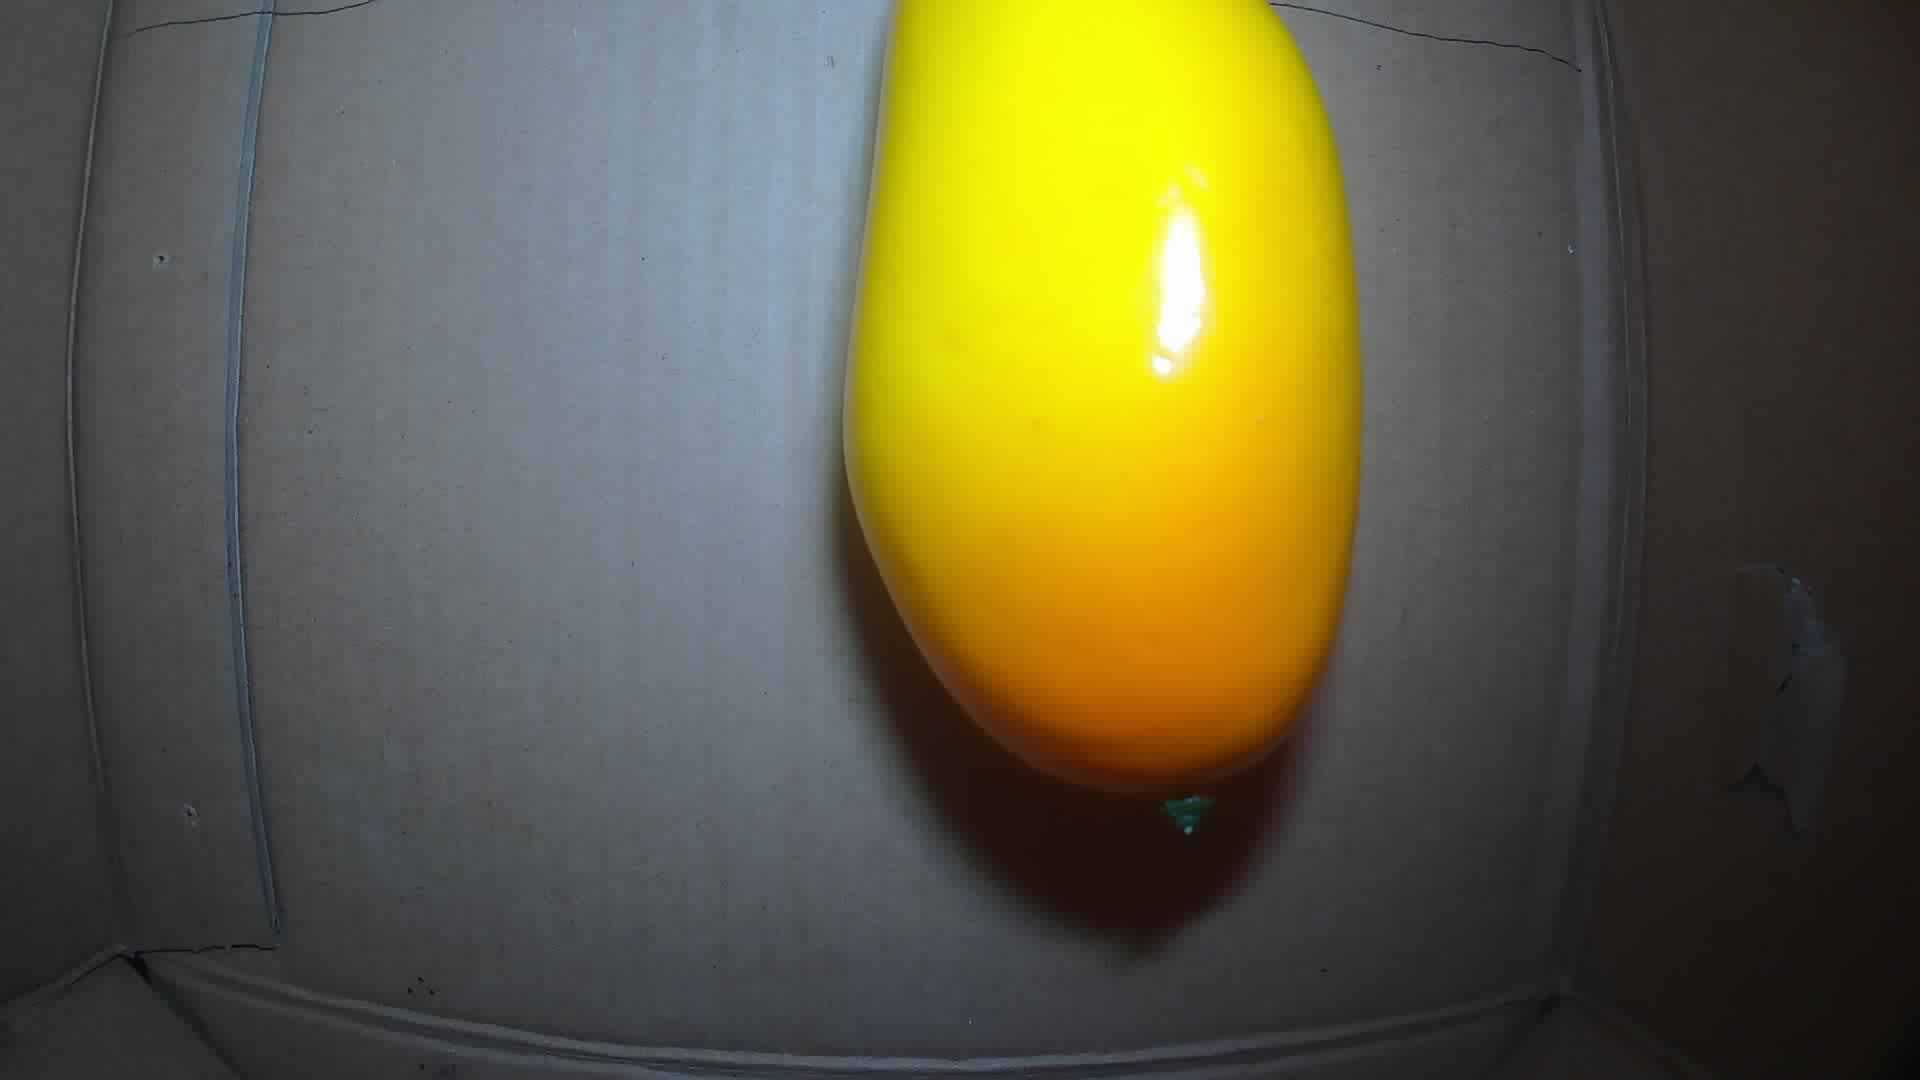mango: (835, 1, 1357, 841)
